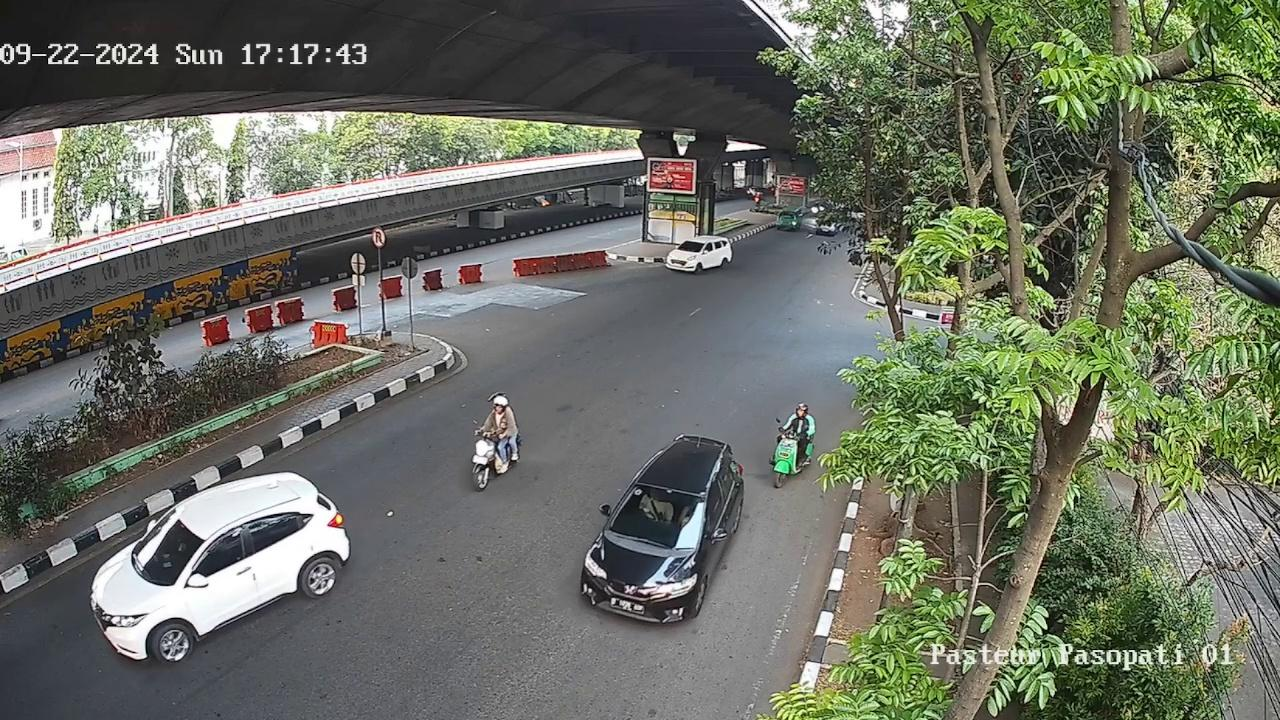pakai: (641, 494, 674, 527)
windshield: (612, 487, 708, 544), (137, 513, 202, 577)
